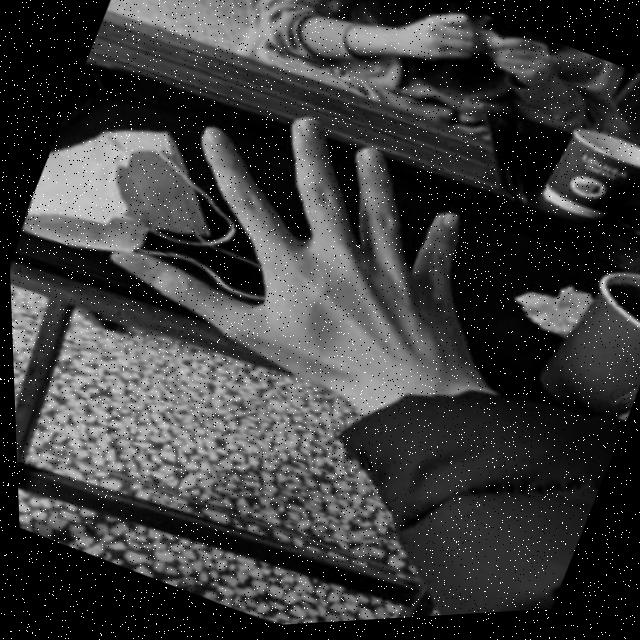hand: (83, 51, 533, 454)
